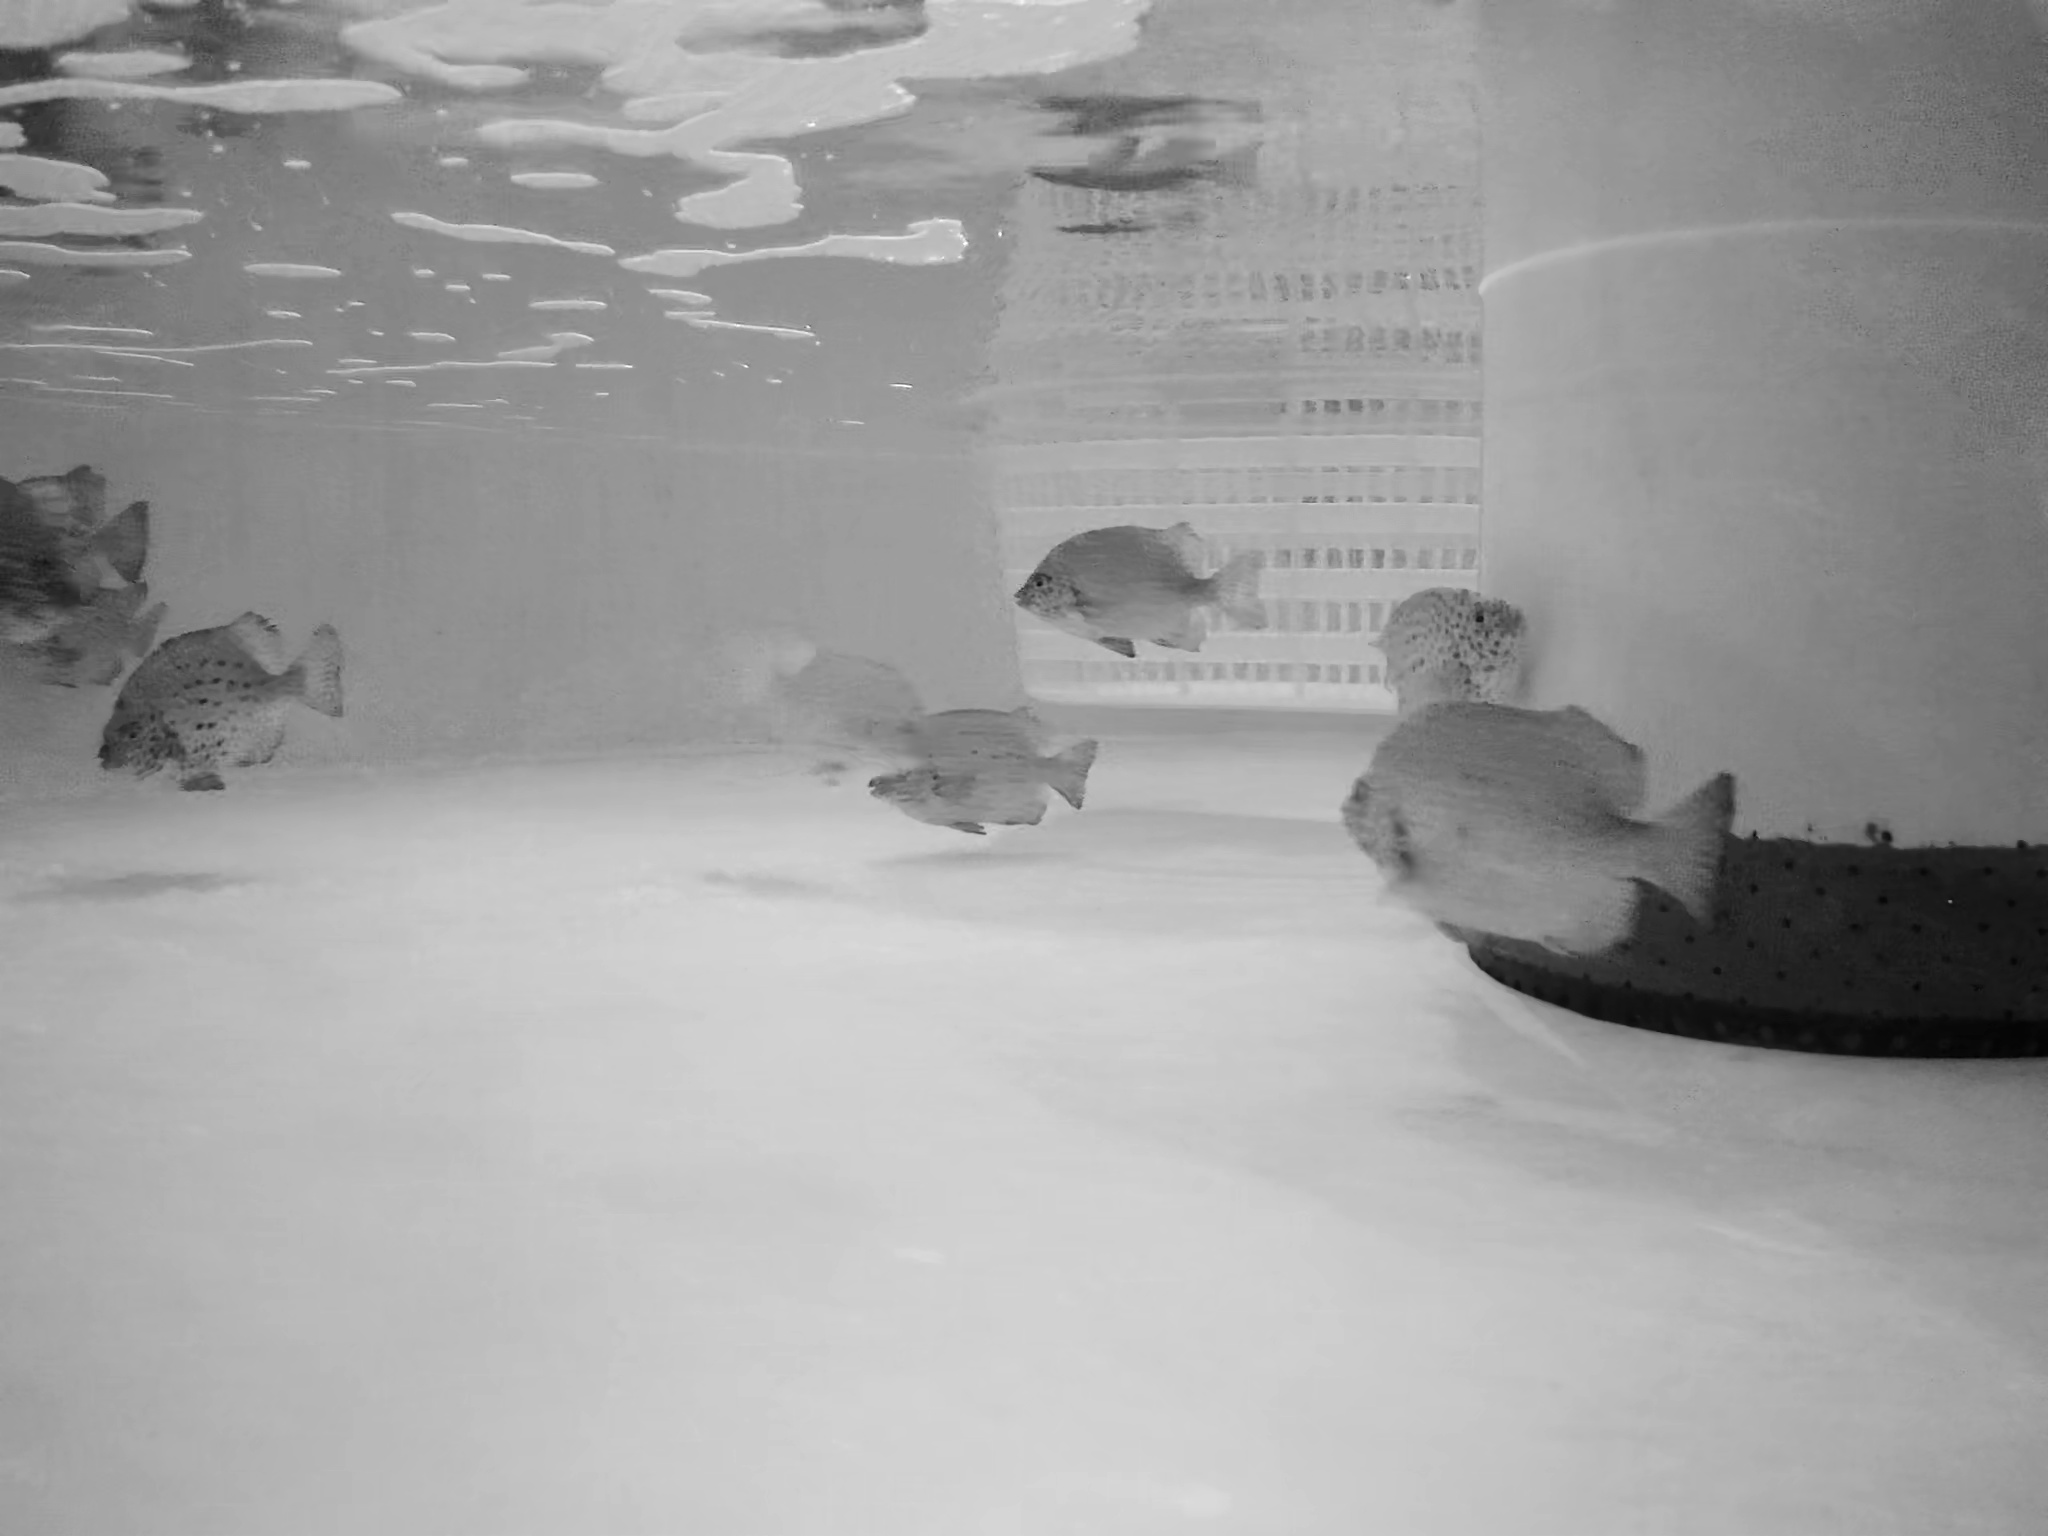fish: (1348, 702, 1743, 978), (108, 610, 355, 802), (1014, 518, 1272, 657), (861, 712, 1098, 833), (755, 639, 927, 781), (2, 497, 176, 636), (2, 586, 185, 687), (1374, 589, 1530, 705)
